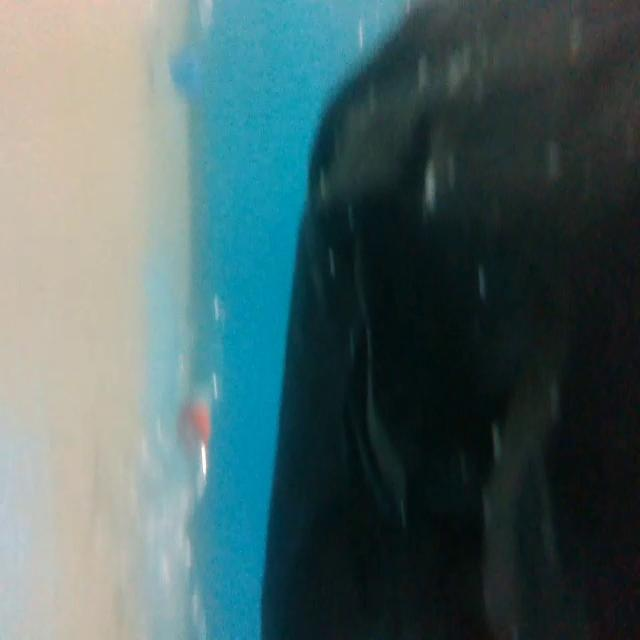plastic bags: (263, 6, 640, 640)
plastic bottle: (109, 327, 230, 630)
